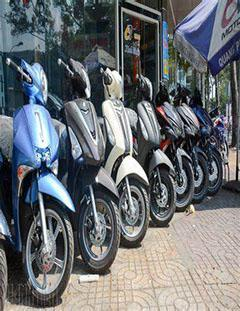motorcycle: (0, 49, 78, 306), (51, 55, 121, 280), (94, 61, 150, 253), (128, 72, 176, 228), (150, 78, 197, 219), (170, 78, 210, 206), (196, 98, 224, 198)
